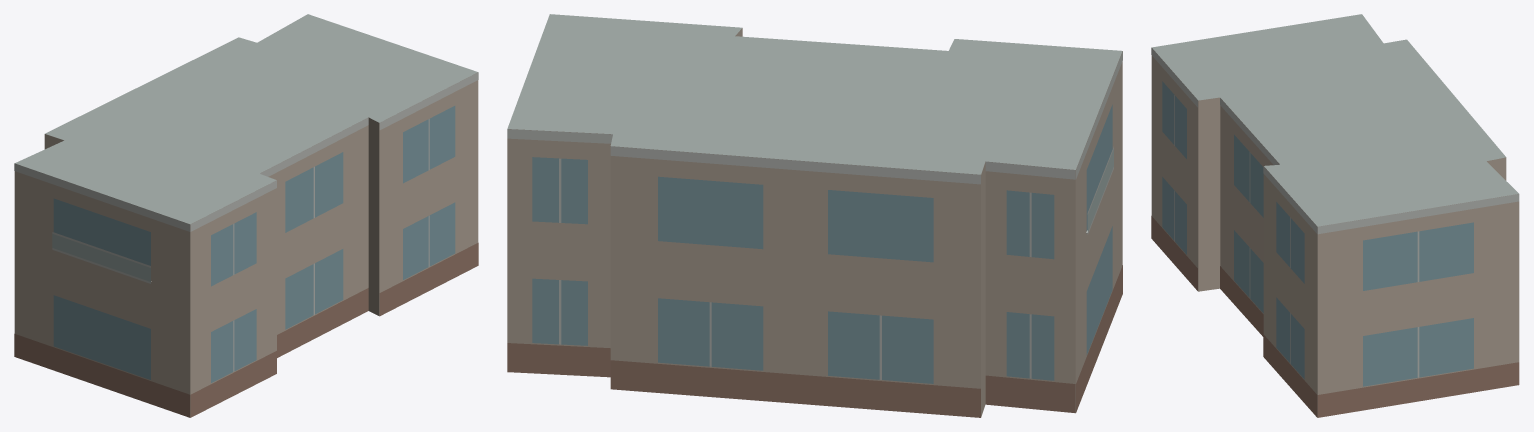
The model's file is survey-upis-32791271.glb.
3 renders of one model, left to right at view 1: azimuth 30°, elevation 25°; view 2: azimuth 150°, elevation 25°; view 3: azimuth 270°, elevation 25°, orthographic. The views are drawn at different scales.
Parts seen in each view (by area): view 1: survey-upis-32791271.tmp; view 2: survey-upis-32791271.tmp; view 3: survey-upis-32791271.tmp.
Part boxes in pixels (x1=…): survey-upis-32791271.tmp: x1=14, y1=14, x2=478, y2=417; survey-upis-32791271.tmp: x1=507, y1=14, x2=1122, y2=417; survey-upis-32791271.tmp: x1=1151, y1=14, x2=1519, y2=417.
Size of the model in its own units: 14.57 by 6.1 by 10.65.
